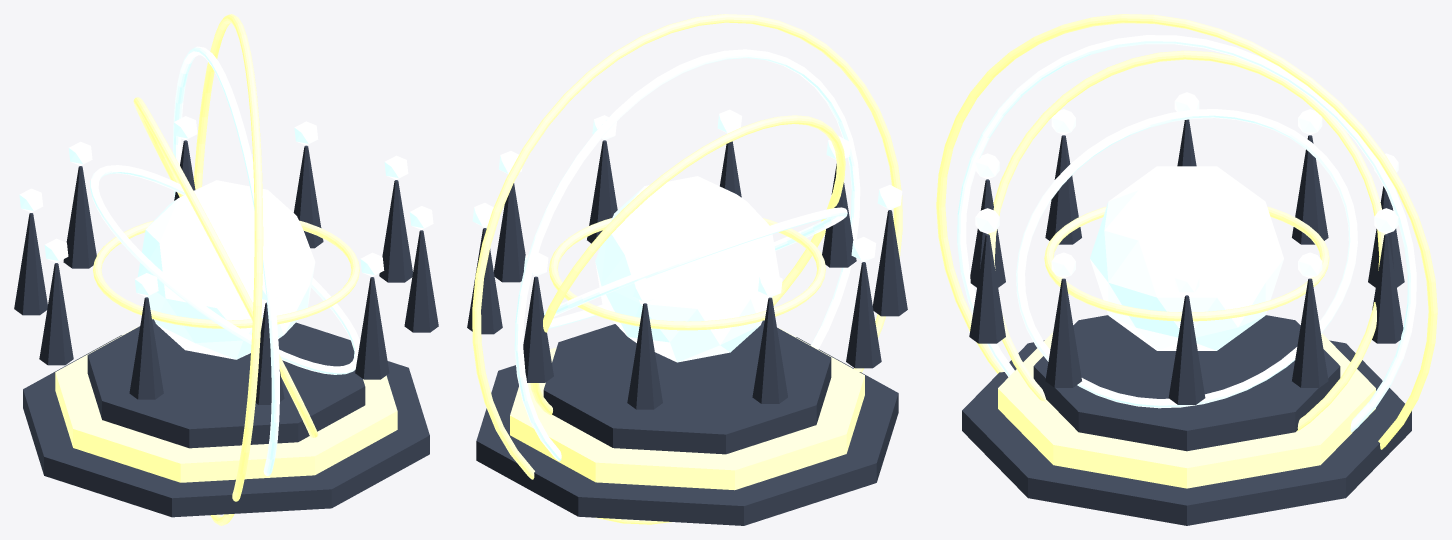
Rendered from gpu-blender-v41.glb.
3 views of the same model, side by side, from view 1: azimuth 30°, elevation 25°; view 2: azimuth 150°, elevation 25°; view 3: azimuth 270°, elevation 25° (orthographic). The views are drawn at different scales.
Visible parts, largest first — view 1: Cylinder.002, Cylinder, SovereignCore_muse-code-linux, Cylinder.001, Torus.004, Torus.003, Torus.001, Torus, Torus.002, Cone.004, Cone.008, Cone.005 (+6 smaller); view 2: Cylinder.002, SovereignCore_muse-code-linux, Cylinder, Cylinder.001, Torus.004, Torus.003, Torus.002, Torus, Torus.001, Cone.005, Cone.003, Cone.006 (+7 smaller); view 3: SovereignCore_muse-code-linux, Cylinder.002, Cylinder, Cylinder.001, Torus.004, Torus.003, Torus.001, Torus.002, Torus, Cone, Cone.008, Cone.001 (+7 smaller).
Part boxes in pixels (x1,y1,x2,y2): Cylinder.002: [87, 319, 365, 448]; Cylinder: [23, 335, 429, 517]; SovereignCore_muse-code-linux: [137, 180, 315, 359]; Cylinder.001: [55, 326, 397, 482]; Torus.004: [194, 14, 263, 525]; Torus.003: [173, 46, 279, 475]; Torus.001: [90, 165, 360, 374]; Torus: [93, 220, 359, 328]; Torus.002: [133, 97, 318, 437]; Cone.004: [14, 213, 47, 315]; Cone.008: [355, 277, 389, 379]; Cone.005: [39, 263, 73, 365]; Cylinder.002: [543, 320, 831, 454]; SovereignCore_muse-code-linux: [595, 176, 779, 362]; Cylinder: [476, 337, 898, 525]; Cylinder.001: [510, 328, 864, 490]; Torus.004: [472, 14, 902, 524]; Torus.003: [514, 49, 860, 461]; Torus.002: [530, 115, 845, 415]; Torus: [549, 218, 825, 330]; Torus.001: [544, 207, 847, 328]; Cone.005: [846, 262, 881, 368]; Cone.003: [627, 303, 662, 409]; Cone.006: [873, 210, 907, 316]; SovereignCore_muse-code-linux: [1090, 166, 1283, 350]; Cylinder.002: [1033, 315, 1340, 451]; Cylinder: [962, 340, 1411, 525]; Cylinder.001: [998, 332, 1375, 488]; Torus.004: [936, 14, 1437, 449]; Torus.003: [957, 35, 1416, 432]; Torus.001: [1016, 109, 1357, 408]; Torus.002: [988, 50, 1385, 431]; Torus: [1044, 206, 1329, 321]; Cone: [1168, 295, 1205, 404]; Cone.008: [969, 234, 1005, 343]; Cone.001: [1292, 278, 1328, 387].
Bounding box in the file's own units: 4.41 × 5.33 × 4.9.
